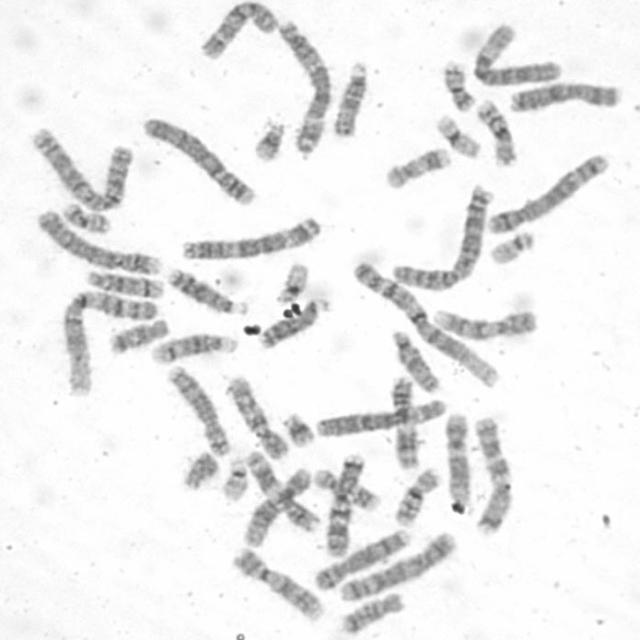A1: (349, 259, 501, 389), (56, 287, 160, 397)
A2: (390, 181, 498, 292), (26, 122, 132, 214)
A3: (272, 17, 334, 159), (178, 212, 324, 262)
B4: (140, 112, 258, 208), (33, 205, 164, 277)
B5: (484, 150, 614, 237), (338, 531, 461, 607)
C10: (223, 373, 290, 461), (198, 0, 285, 63)
C11: (242, 447, 321, 534), (386, 374, 422, 472)
C12: (241, 465, 316, 548), (440, 409, 472, 506)
C6: (470, 22, 567, 88), (311, 396, 448, 440)
C7: (472, 412, 516, 536), (326, 451, 372, 559)
C8: (311, 526, 414, 594), (163, 361, 232, 458)
C9: (229, 544, 329, 624), (429, 305, 543, 344)
D13: (163, 263, 248, 318), (255, 294, 332, 351)
D14: (148, 329, 240, 367), (83, 270, 168, 302)
D15: (389, 327, 443, 394), (330, 58, 371, 138)
E16: (391, 464, 444, 528), (474, 96, 518, 168)
E17: (379, 143, 454, 190), (310, 466, 382, 514)
E18: (336, 588, 406, 636), (105, 314, 170, 356)
F19: (432, 110, 482, 161), (272, 259, 311, 305)
F20: (440, 57, 478, 113), (59, 199, 114, 236)
G21: (250, 118, 288, 162), (280, 408, 317, 448)
G22: (486, 228, 537, 266), (218, 455, 250, 503)
X: (506, 80, 624, 115)
Y: (179, 446, 219, 494)
